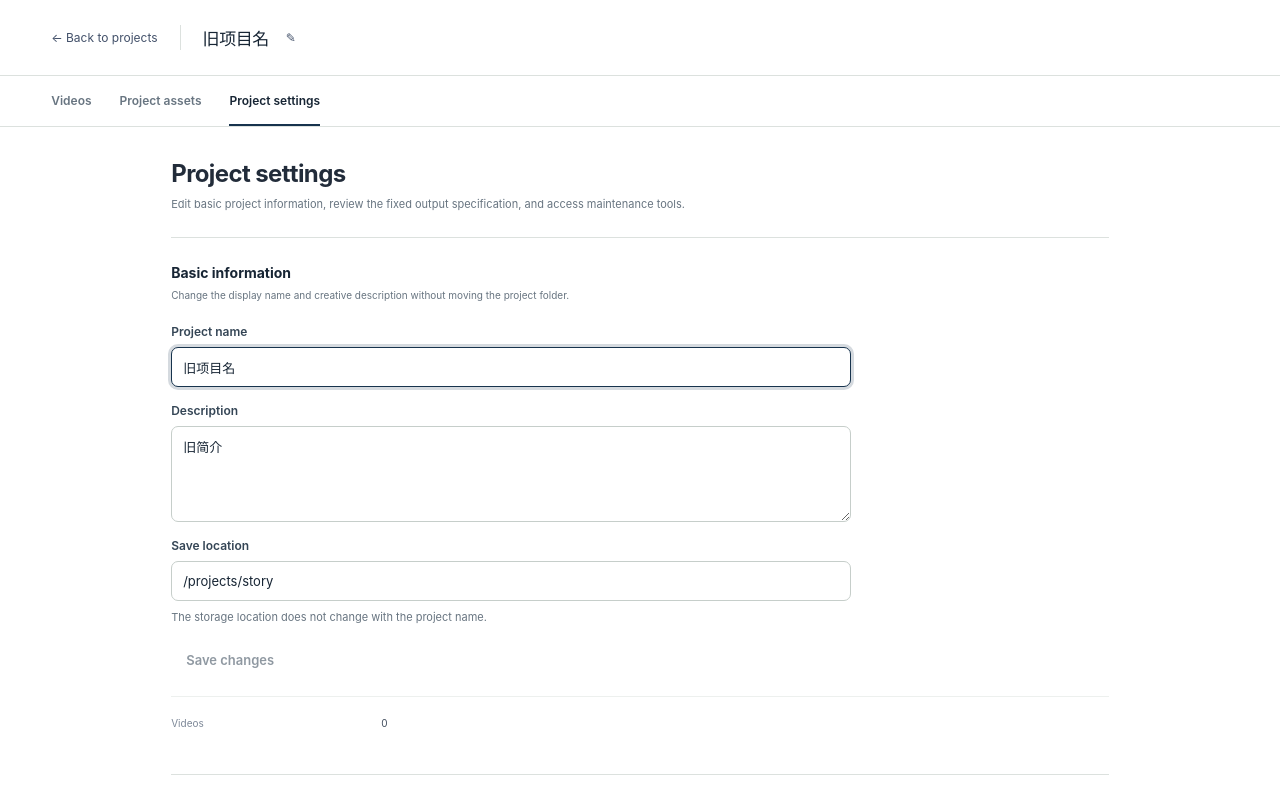
Scenario: ProjectSettingsPage › updates project metadata and refreshes the cached recent-work name
Replace the text in the field labelled "Project name" with "新项目名": (511, 367) [171, 347, 851, 387]
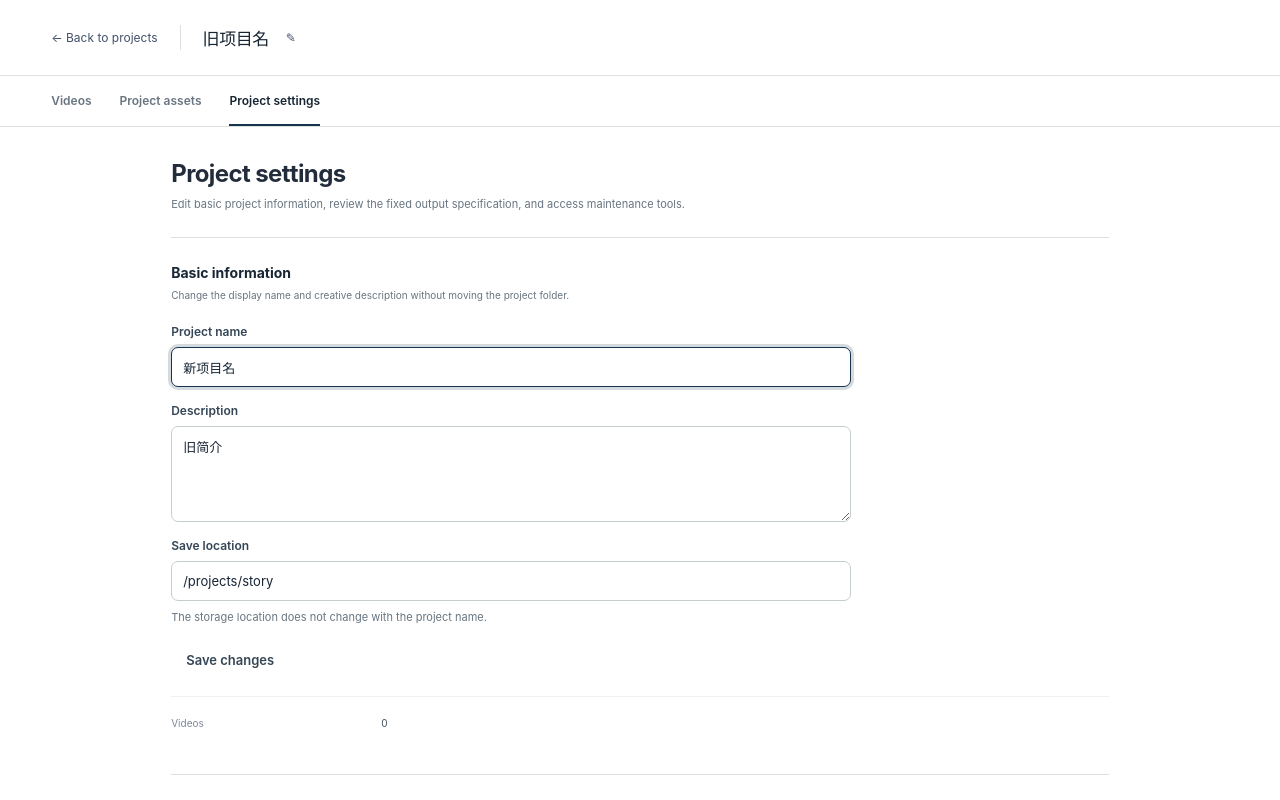
Replace the text in the text box labelled "Description" with "新简介": (511, 474) [171, 426, 851, 522]
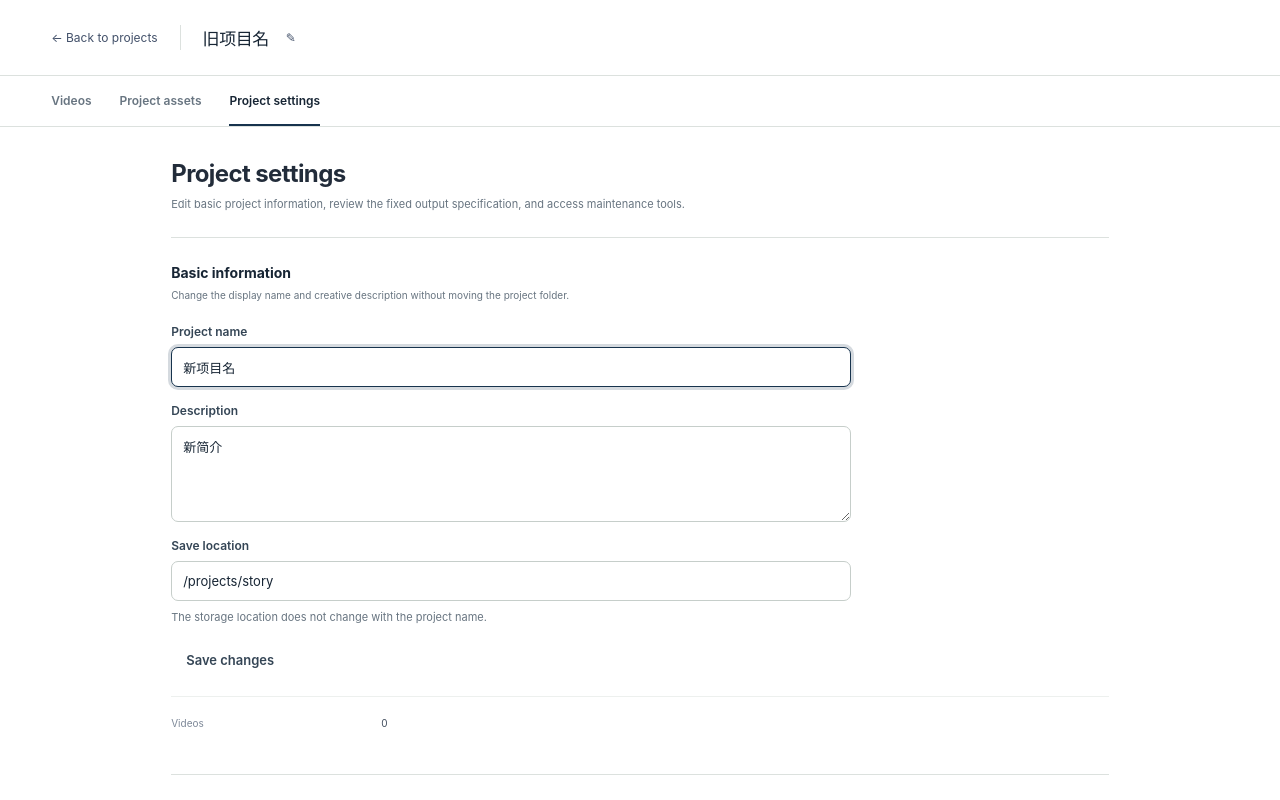
Click the button "Save changes": (230, 660) [171, 642, 289, 678]
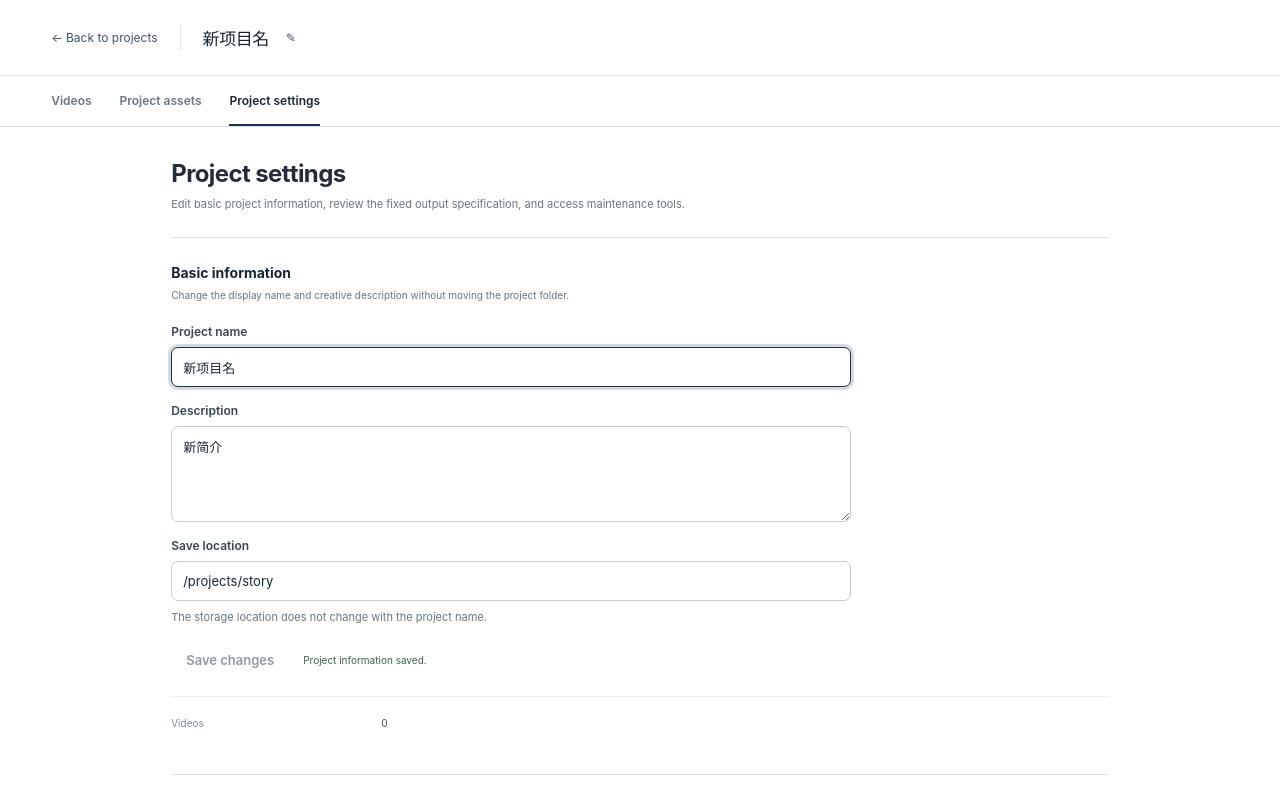
Check: the message reads "Project information saved.", box [303, 654, 427, 666]
Check: the heading "新项目名" is shown, box [180, 25, 269, 50]
